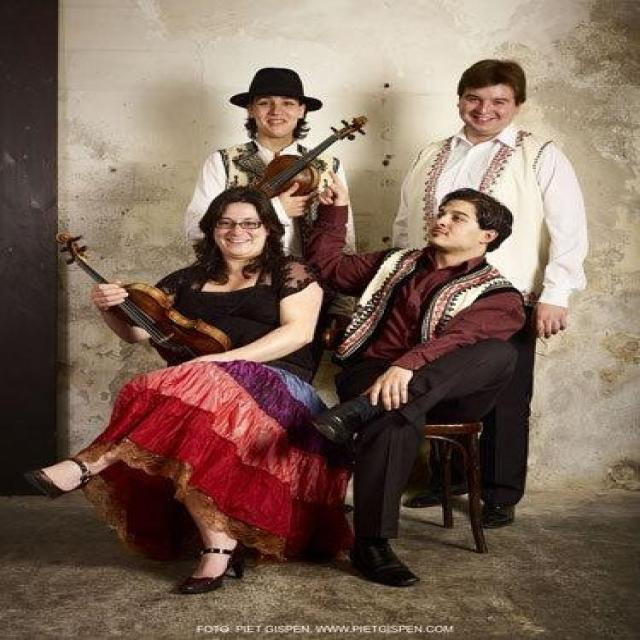violin: (52, 229, 230, 364), (251, 115, 370, 199)
